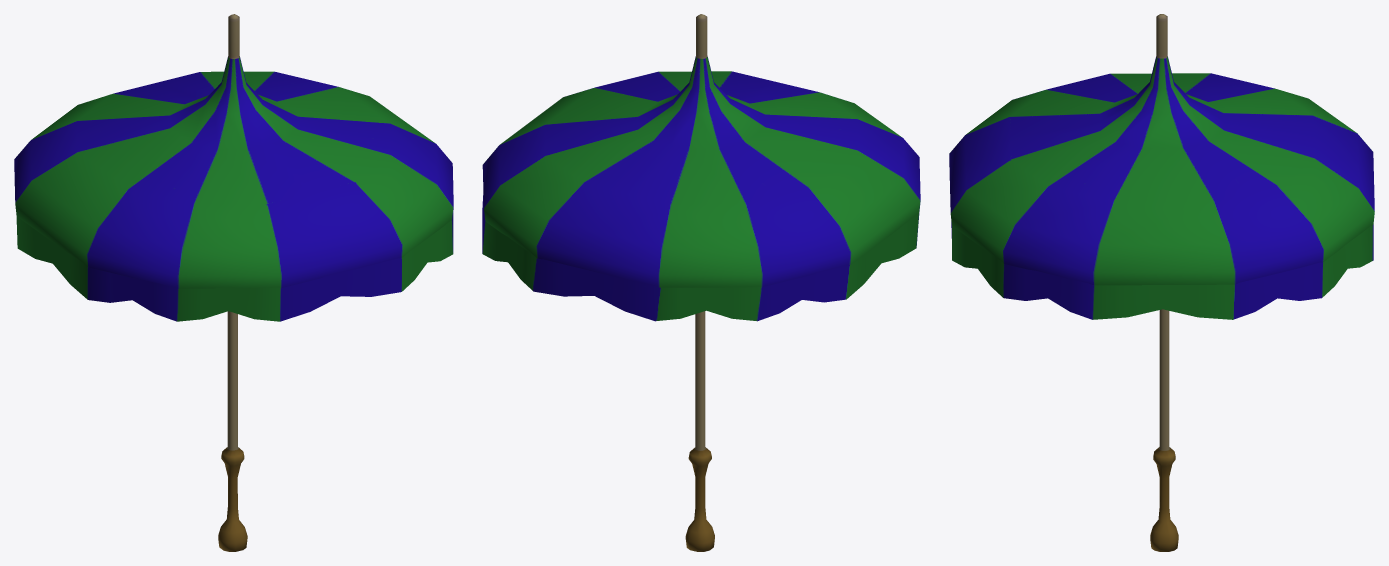
File: GreenBlueParasol1_Scaled.fbx
3 renders of one model, left to right at view 1: azimuth 30°, elevation 25°; view 2: azimuth 150°, elevation 25°; view 3: azimuth 270°, elevation 25°, orthographic.
Visible parts, largest first — view 1: ParasolTop_3, Parasol_RoundedFrill_2, ParasolHandle_3; view 2: ParasolTop_3, Parasol_RoundedFrill_2, ParasolHandle_3; view 3: ParasolTop_3, Parasol_RoundedFrill_2, ParasolHandle_3.
Boxes of the visible parts, x1,y1,x2,y2 form: ParasolTop_3: (14,14,453,288); Parasol_RoundedFrill_2: (16,213,453,321); ParasolHandle_3: (218,311,247,551); ParasolTop_3: (482,14,920,287); Parasol_RoundedFrill_2: (482,195,919,321); ParasolHandle_3: (685,311,714,551); ParasolTop_3: (949,14,1374,285); Parasol_RoundedFrill_2: (951,222,1373,319); ParasolHandle_3: (1150,309,1178,551).
Bounding box in the file's own units: 92.61 × 128 × 92.6.
